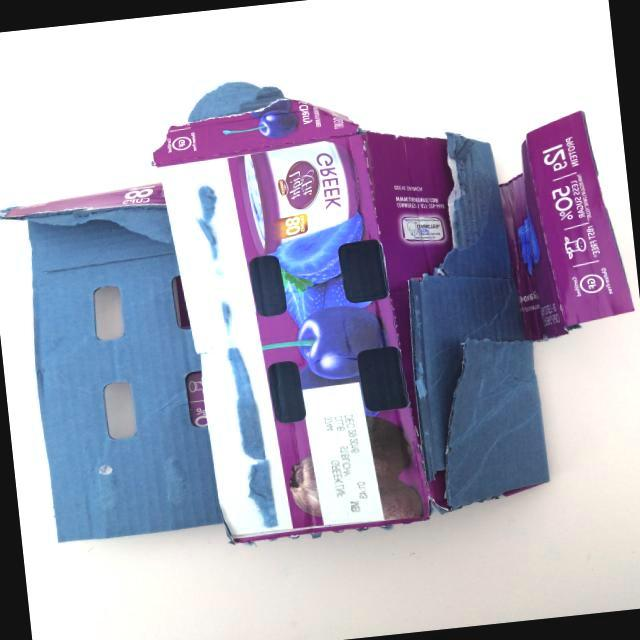cardboard: (0, 30, 640, 589)
